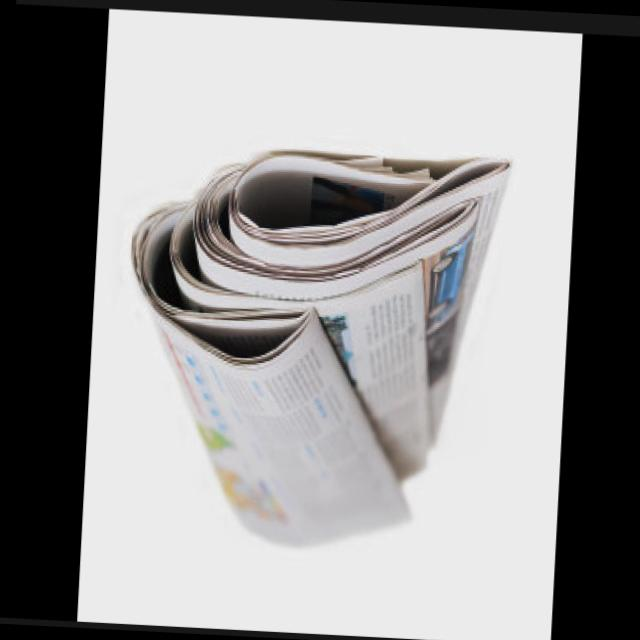Koran: (114, 139, 512, 563)
